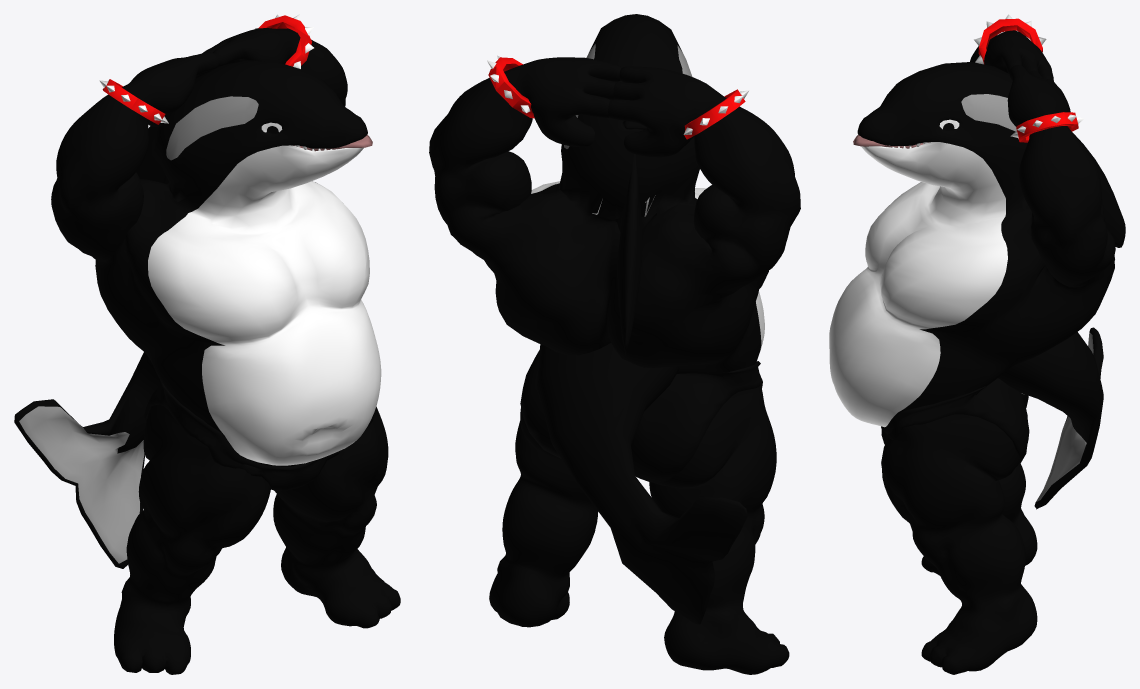
Rendered from kmorca.glb.
The picture shows the model from 3 angles, left to right: view 1: azimuth 30°, elevation 25°; view 2: azimuth 150°, elevation 25°; view 3: azimuth 270°, elevation 25°; orthographic projection. The views are drawn at different scales.
Visible parts, largest first — view 1: Object_13, Object_14, Object_15, Object_12, Object_7, Object_4; view 2: Object_13, Object_12, Object_7, Object_4, Object_14; view 3: Object_13, Object_14, Object_12, Object_7, Object_15, Object_4, Object_2.
Part boxes in pixels (x1,y1,x2,y2): Object_13: [51, 28, 400, 674]; Object_14: [148, 145, 381, 465]; Object_15: [19, 96, 258, 563]; Object_12: [14, 126, 168, 568]; Object_7: [143, 379, 374, 490]; Object_4: [102, 15, 311, 124]; Object_13: [429, 14, 800, 674]; Object_12: [537, 154, 747, 624]; Object_7: [520, 349, 762, 482]; Object_4: [488, 57, 745, 139]; Object_14: [531, 181, 764, 350]; Object_13: [857, 30, 1115, 674]; Object_14: [829, 142, 1022, 427]; Object_12: [998, 132, 1125, 509]; Object_7: [881, 378, 1029, 463]; Object_15: [961, 94, 1093, 501]; Object_4: [978, 18, 1078, 142]; Object_2: [974, 14, 1084, 138].
Bounding box in the file's own units: 63.05 × 110 × 53.17.
